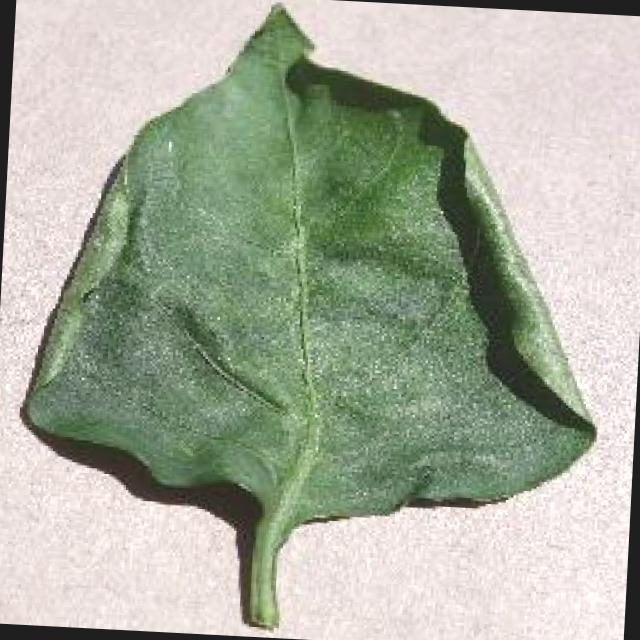Leaf: (19, 5, 618, 638)
